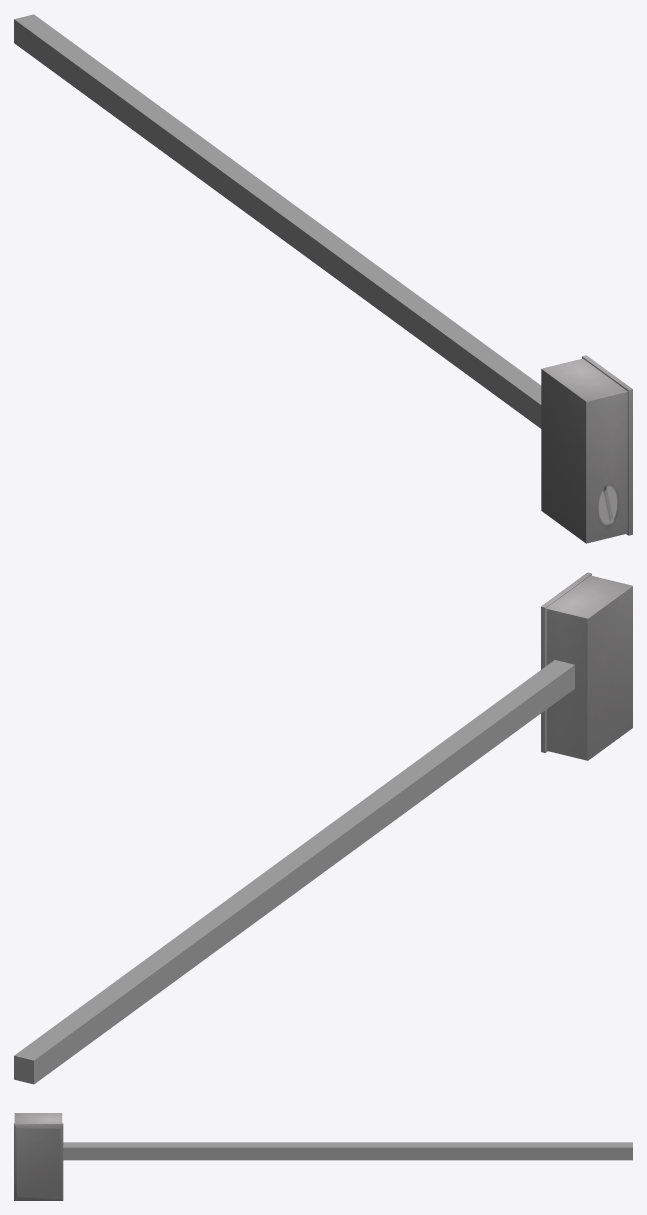
The model's file is Wall_Outlet_Side.fbx.
3 renders of one model, top to bottom at view 1: azimuth 30°, elevation 25°; view 2: azimuth 150°, elevation 25°; view 3: azimuth 270°, elevation 25°, orthographic. The views are drawn at different scales.
Visible parts, largest first — view 1: pCube6; view 2: pCube6; view 3: pCube6.
Boxes of the visible parts, x1,y1,x2,y2 form: pCube6: (14, 14, 632, 543); pCube6: (14, 572, 632, 1084); pCube6: (14, 1113, 632, 1200).
Bounding box in the file's own units: 0.3541 × 1.02 × 7.46.
